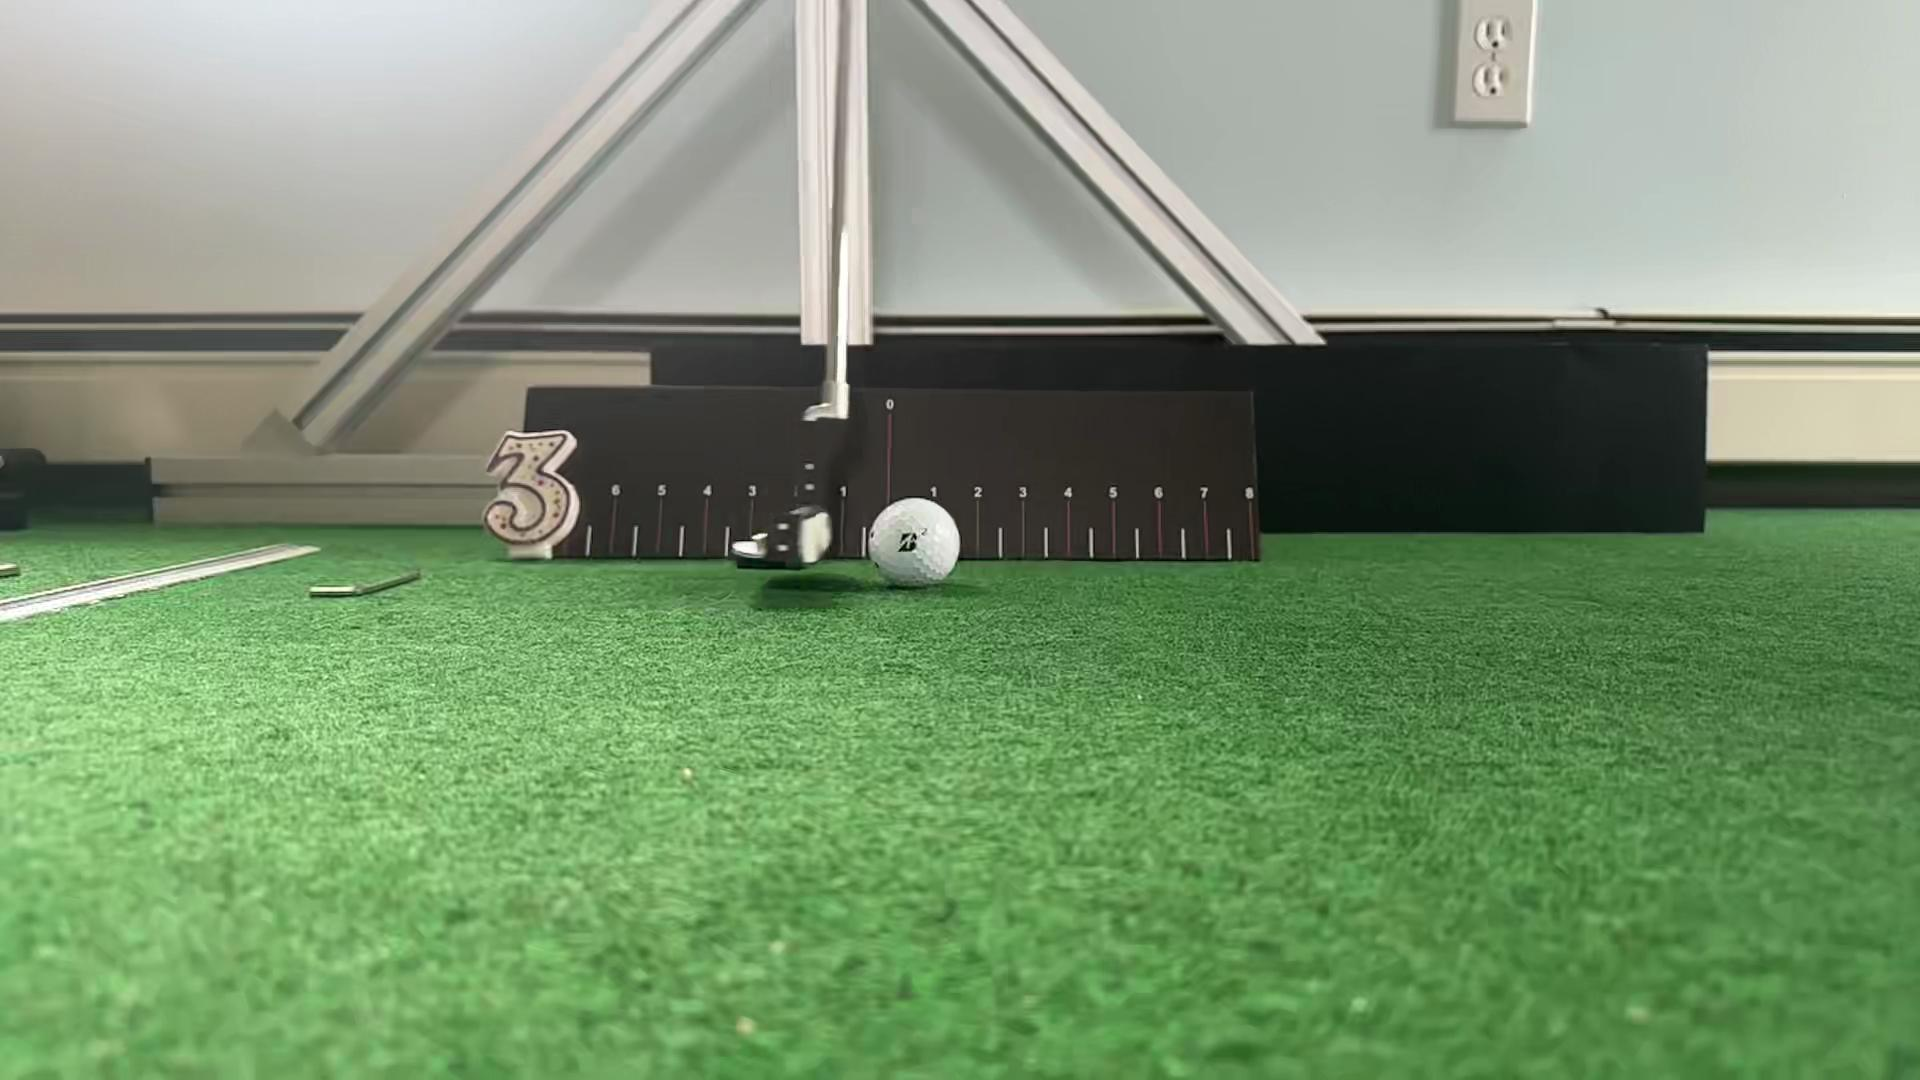golfball: (868, 498, 961, 586)
